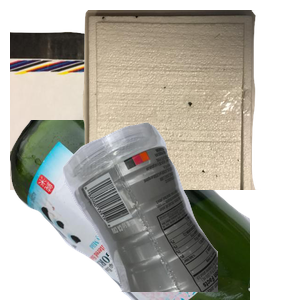cardboard: (10, 29, 250, 209)
glass: (10, 120, 250, 300)
plastic: (60, 120, 300, 300)
trash: (80, 10, 300, 190)
